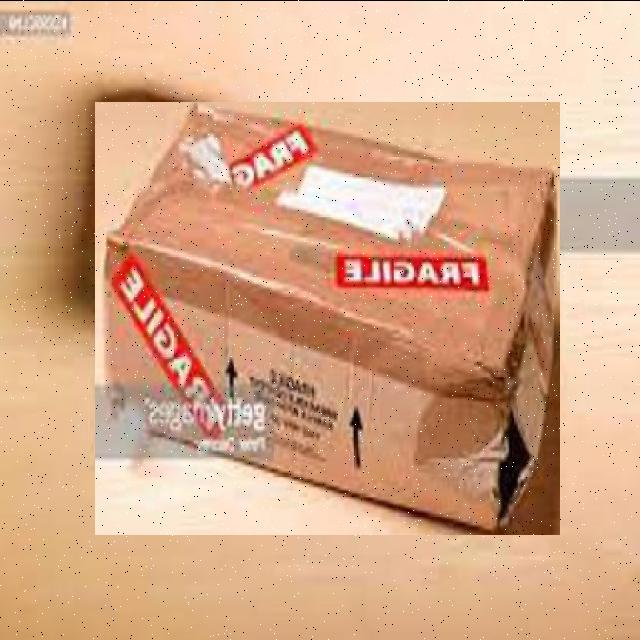defect: (95, 101, 560, 534)
